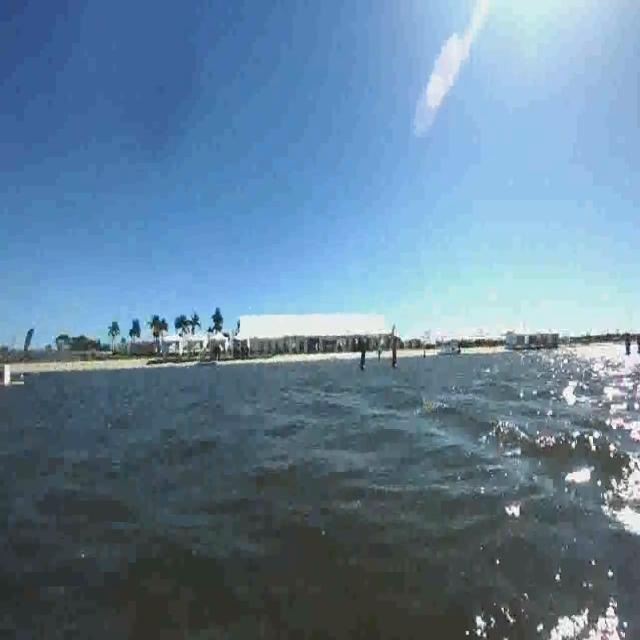green-column-buoy: (356, 340, 366, 370)
red-column-buoy: (390, 339, 400, 368)
